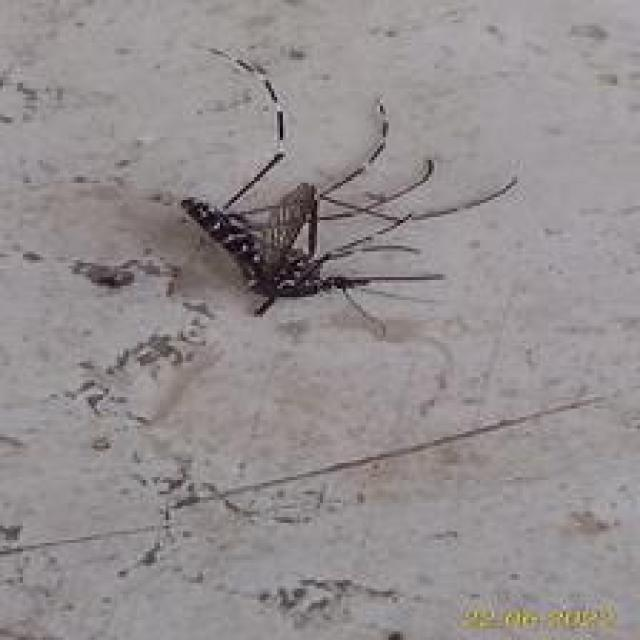Aedes albopictus: (176, 44, 518, 339)
